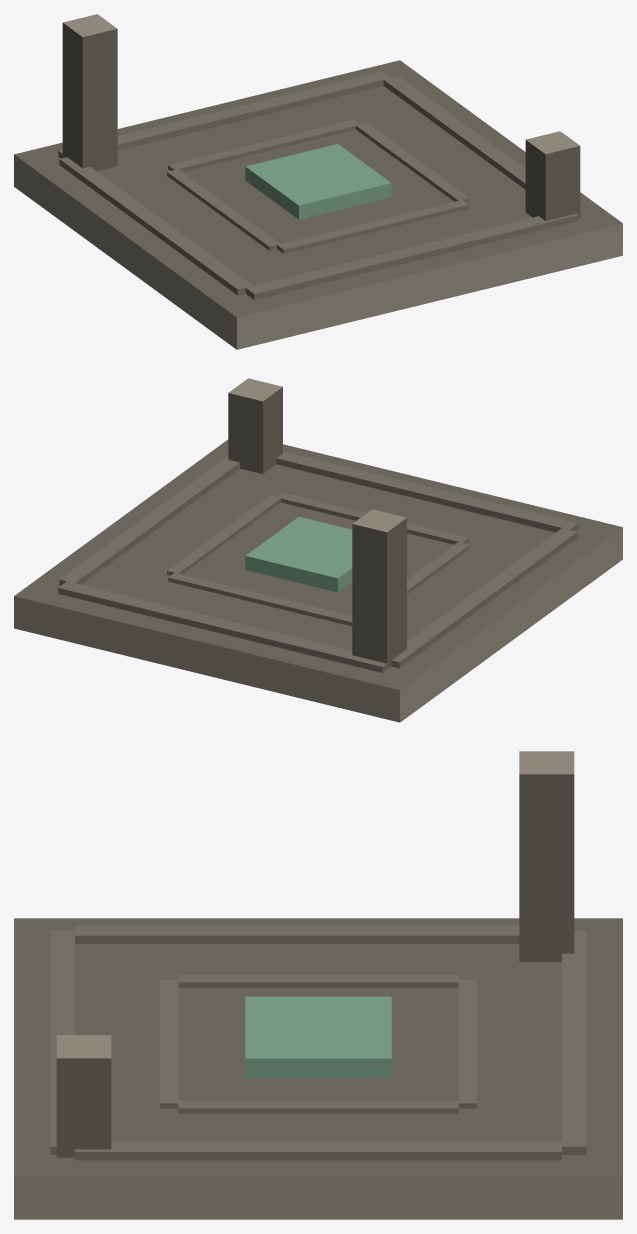
The model's file is terr_array.glb.
3 renders of one model, top to bottom at view 1: azimuth 30°, elevation 25°; view 2: azimuth 150°, elevation 25°; view 3: azimuth 270°, elevation 25°, orthographic. The views are drawn at different scales.
Visible parts, largest first — view 1: terr_array; view 2: terr_array; view 3: terr_array.
Part boxes in pixels (x1=…): terr_array: x1=14, y1=14, x2=622, y2=349; terr_array: x1=14, y1=378, x2=622, y2=722; terr_array: x1=14, y1=751, x2=622, y2=1219.
Bounding box in the file's own units: 1 × 0.42 × 1.
Materials: 1 (1 with a texture image).
